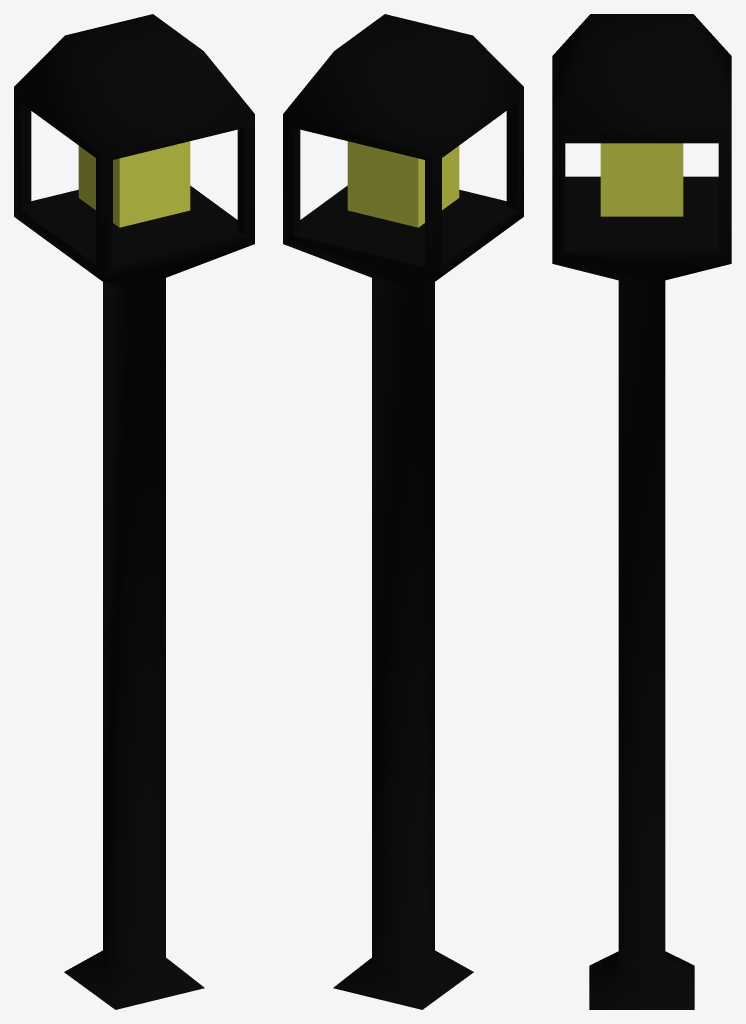
Rendered from Poste.fbx.
3 views of the same model, side by side, from view 1: azimuth 30°, elevation 25°; view 2: azimuth 150°, elevation 25°; view 3: azimuth 270°, elevation 25° (orthographic).
Parts seen in each view (by area): view 1: Poste; view 2: Poste; view 3: Poste.
Part boxes in pixels (left/top/right/bottom): Poste: left=14, top=14, right=254, bottom=1009; Poste: left=283, top=14, right=523, bottom=1009; Poste: left=552, top=14, right=731, bottom=1009.
Size of the model in its own units: 58.37 by 342 by 58.37.
